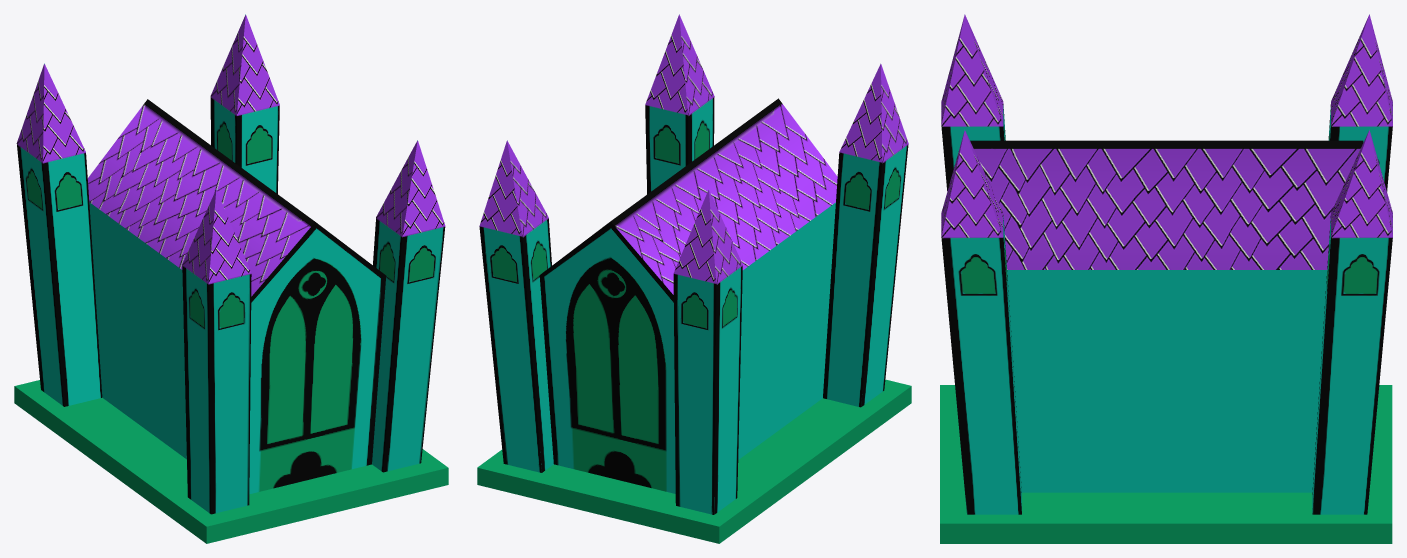
The model's file is Church.fbx.
The picture shows the model from 3 angles, left to right: view 1: azimuth 30°, elevation 25°; view 2: azimuth 150°, elevation 25°; view 3: azimuth 270°, elevation 25°; orthographic projection. The views are drawn at different scales.
Visible parts, largest first — view 1: TODOS:iglesia:polySurface1, TODOS:iglesia:pCube1; view 2: TODOS:iglesia:polySurface1, TODOS:iglesia:pCube1; view 3: TODOS:iglesia:polySurface1, TODOS:iglesia:pCube1.
Boxes of the visible parts, bbox=[...] form: TODOS:iglesia:polySurface1: bbox=[16, 14, 445, 514]; TODOS:iglesia:pCube1: bbox=[14, 380, 448, 543]; TODOS:iglesia:polySurface1: bbox=[479, 14, 908, 514]; TODOS:iglesia:pCube1: bbox=[477, 379, 911, 543]; TODOS:iglesia:polySurface1: bbox=[941, 14, 1392, 514]; TODOS:iglesia:pCube1: bbox=[940, 385, 1392, 543].
Bounding box in the file's own units: 15.93 × 21.54 × 21.95.
